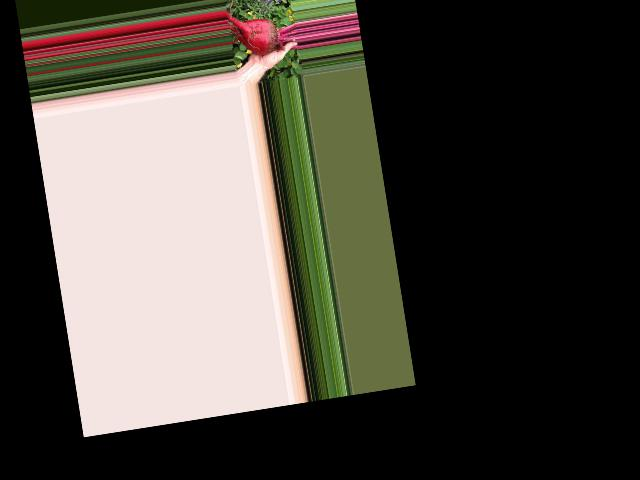beet: (225, 0, 299, 59)
